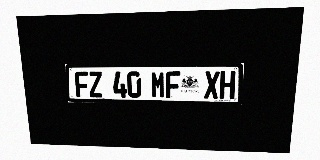0: (127, 71, 141, 98)
4: (112, 71, 127, 98)
F: (74, 71, 89, 97), (166, 71, 180, 98)
H: (219, 71, 236, 99)
M: (151, 71, 165, 98)
X: (204, 71, 220, 99)
Z: (88, 71, 103, 97)
